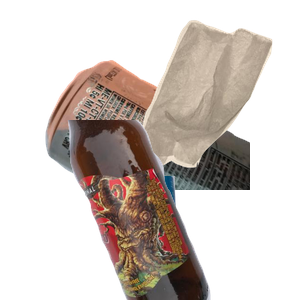glass: (65, 120, 300, 300)
metal: (43, 58, 283, 238)
plastic: (115, 176, 288, 300)
trash: (132, 17, 300, 177)
